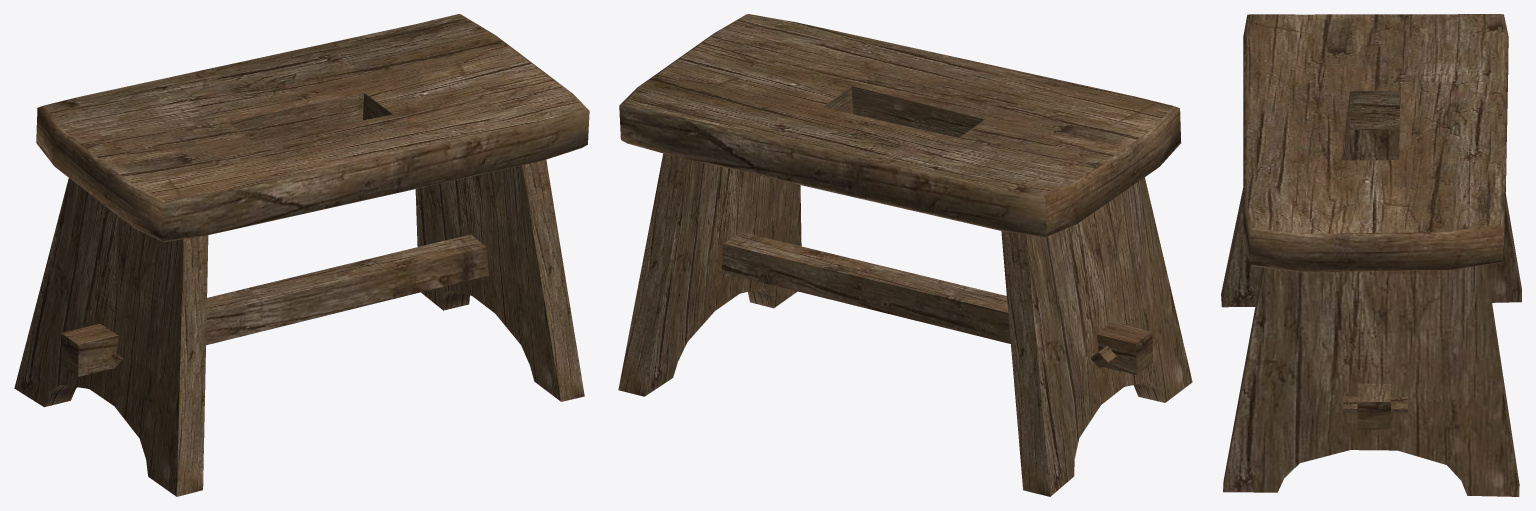
File: square_stool.fbx
3 views of the same model, side by side, from view 1: azimuth 30°, elevation 25°; view 2: azimuth 150°, elevation 25°; view 3: azimuth 270°, elevation 25° (orthographic).
Parts seen in each view (by area): view 1: grp1; view 2: grp1; view 3: grp1.
Boxes of the visible parts, box(x1,y1,x2,y2) form: grp1: box(14, 14, 589, 496); grp1: box(618, 14, 1192, 496); grp1: box(1221, 14, 1521, 496).
Bounding box in the file's own units: 71.18 × 41.23 × 39.59.
Materials: 1 (1 with a texture image).
